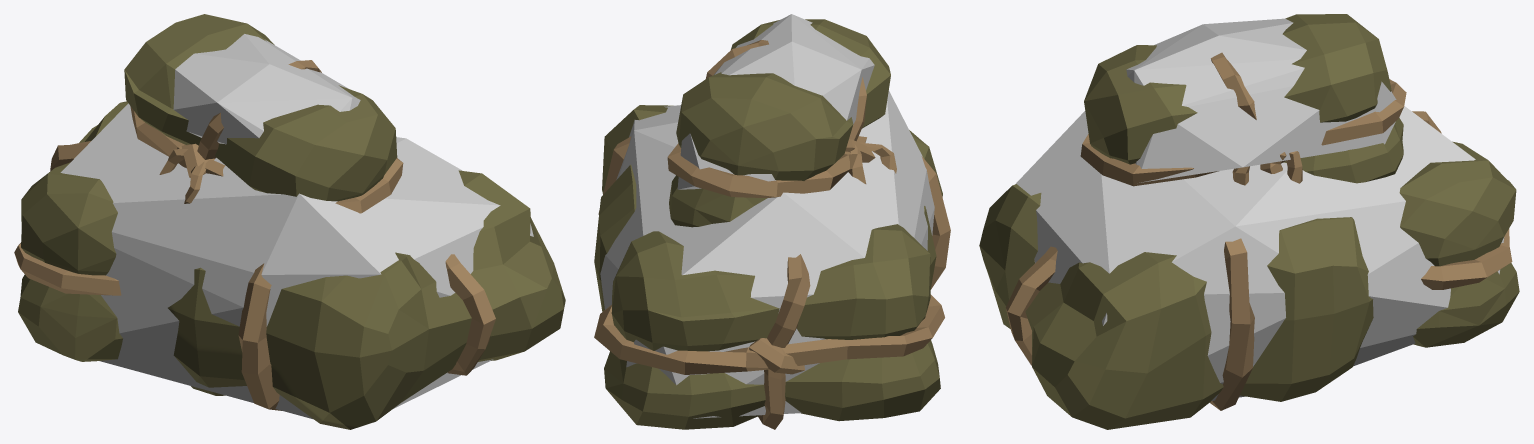
Rendered from SM_Prop_Bundle_08.fbx.
3 renders of one model, left to right at view 1: azimuth 30°, elevation 25°; view 2: azimuth 150°, elevation 25°; view 3: azimuth 270°, elevation 25°, orthographic. The views are drawn at different scales.
Visible parts, largest first — view 1: SM_Prop_Bundle_08, SM_Prop_Bundle_08_ConvexHulls; view 2: SM_Prop_Bundle_08, SM_Prop_Bundle_08_ConvexHulls; view 3: SM_Prop_Bundle_08, SM_Prop_Bundle_08_ConvexHulls.
Part boxes in pixels (bbox=[...]): SM_Prop_Bundle_08: bbox=[14, 14, 565, 429]; SM_Prop_Bundle_08_ConvexHulls: bbox=[60, 34, 533, 419]; SM_Prop_Bundle_08: bbox=[594, 19, 950, 429]; SM_Prop_Bundle_08_ConvexHulls: bbox=[600, 14, 934, 418]; SM_Prop_Bundle_08: bbox=[979, 14, 1519, 429]; SM_Prop_Bundle_08_ConvexHulls: bbox=[1015, 18, 1504, 400].
Bounding box in the file's own units: 157 × 168 × 109.
Materials: 2 (1 with a texture image).
